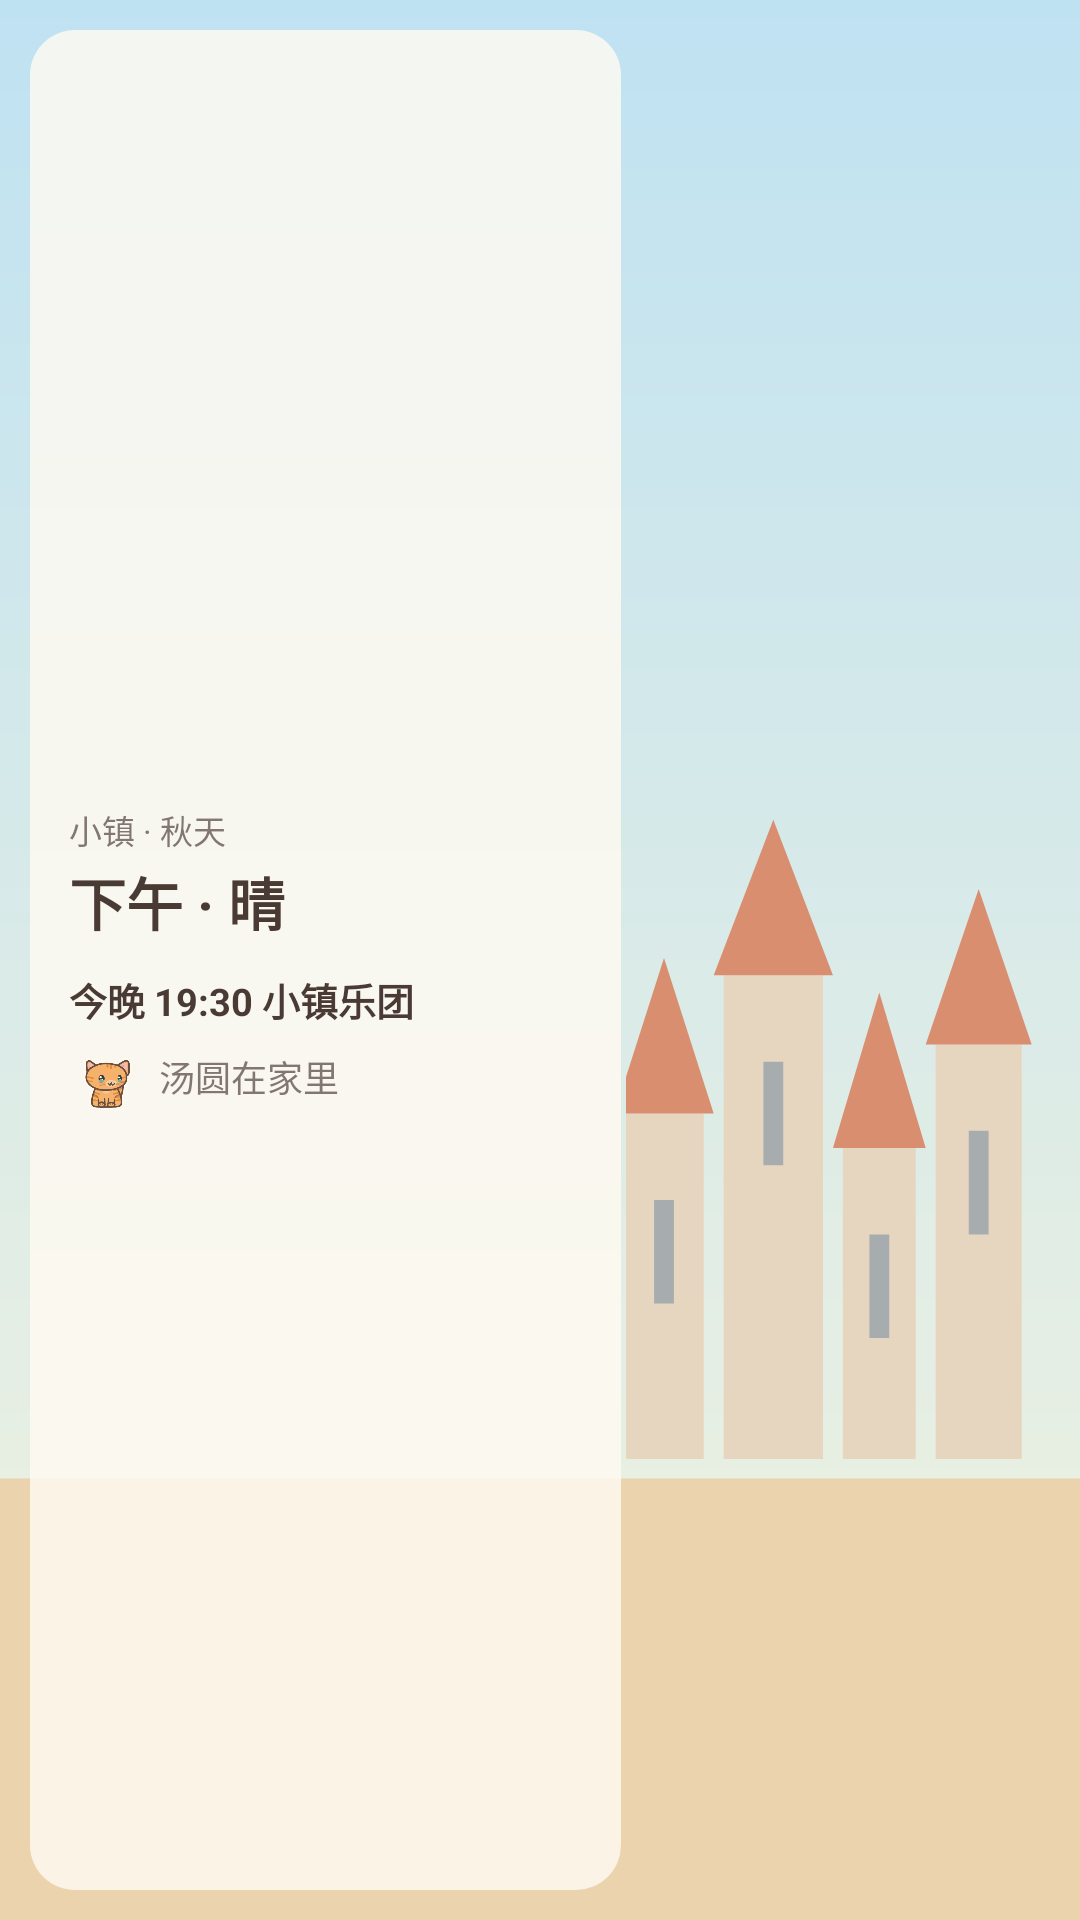

Screen size 1080px×1920px. Icon name, then its center in pixels as [x,y]:
widget cat: [107,1084]
